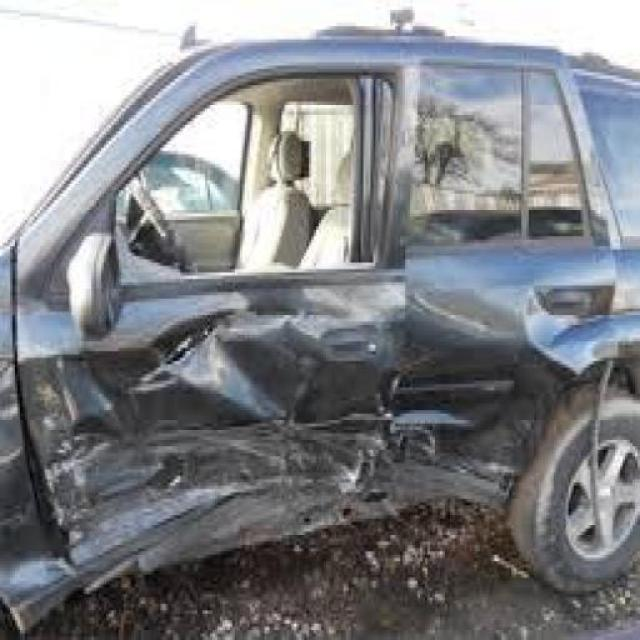crush: (1, 269, 614, 633)
